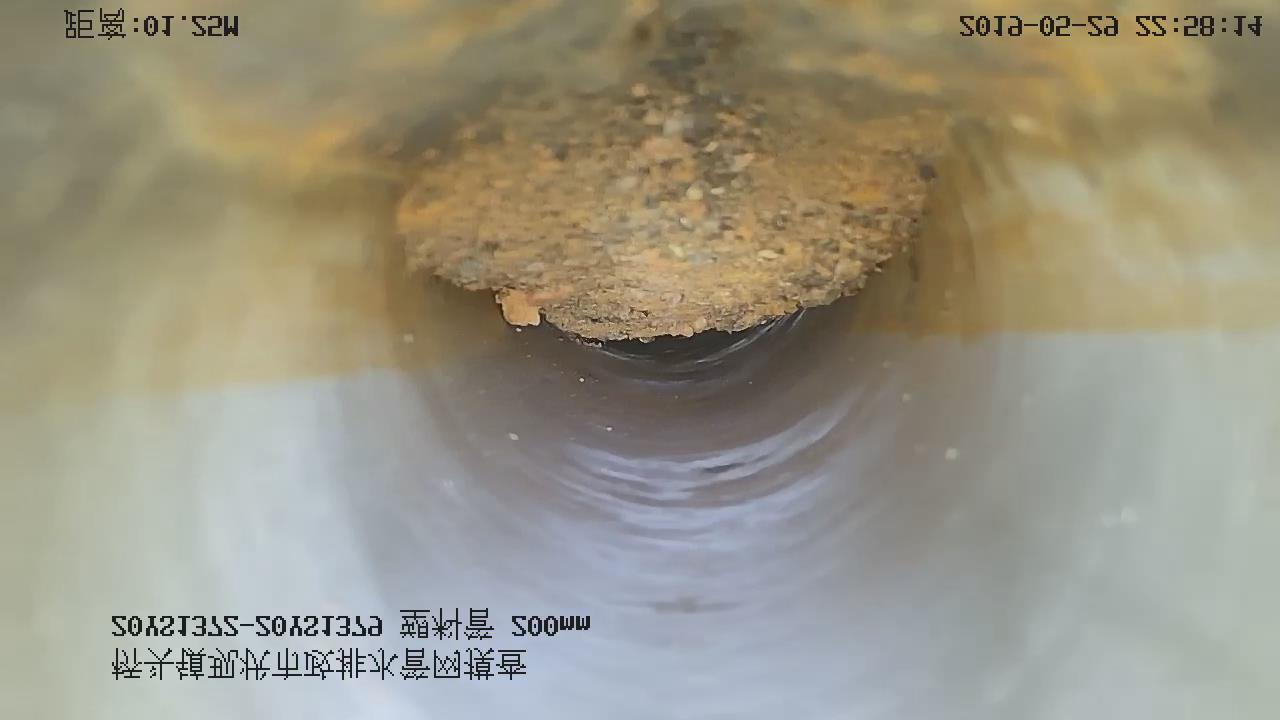CJ: (66, 1, 1236, 339)
